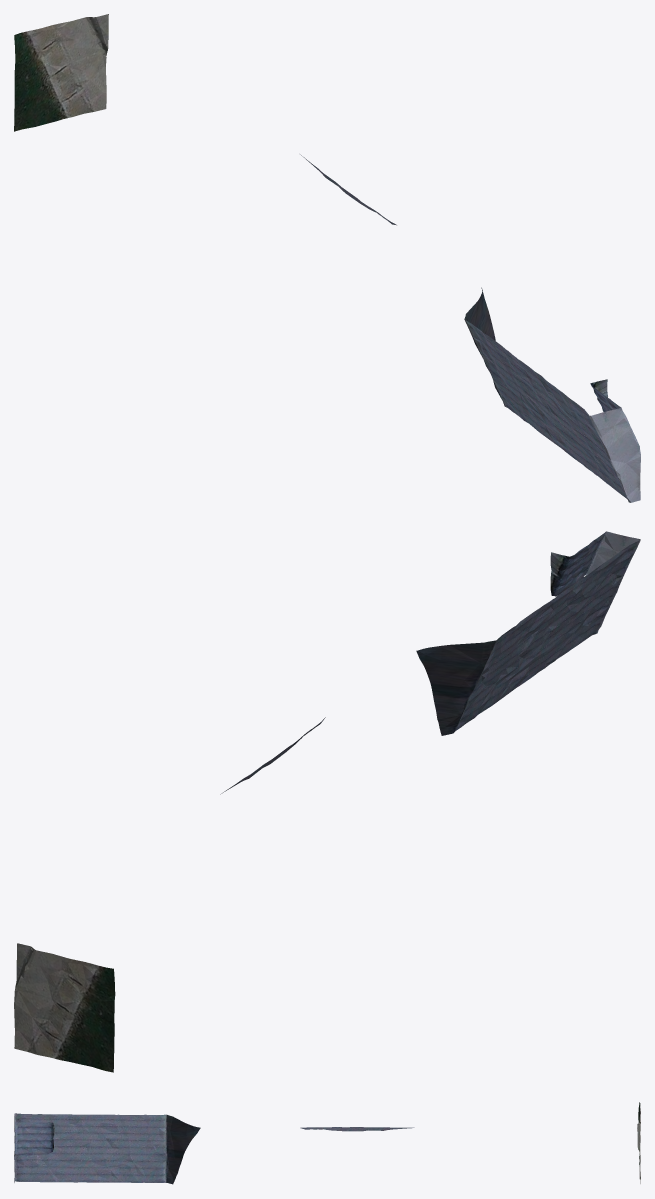
File: Tile_+004_+006_L23_002301.obj
3 renders of one model, top to bottom at view 1: azimuth 30°, elevation 25°; view 2: azimuth 150°, elevation 25°; view 3: azimuth 270°, elevation 25°, orthographic. The views are drawn at different scales.
Bounding box in the file's own units: 1.91 × 1.91 × 19.11.
Materials: 1 (1 with a texture image).
